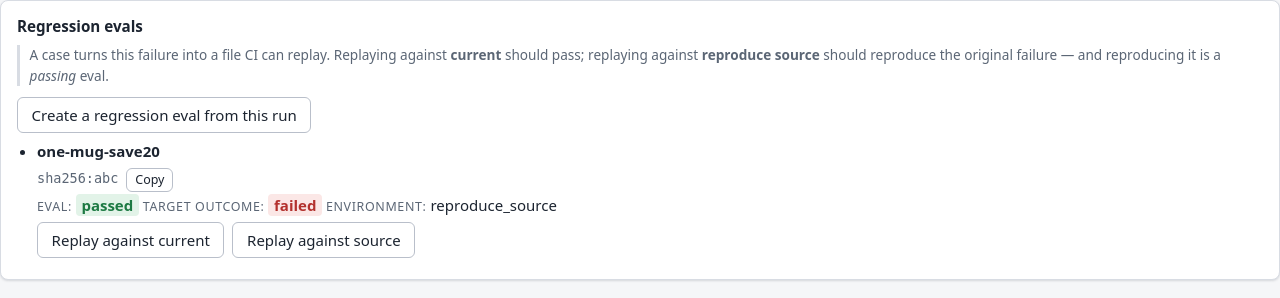
Test: EvalPanel (§24.3) › says the copy failed instead of pretending, when the browser has no clipboard
Click the button with aria-label "copy content hash" at (150, 180), box 126,168 -> 174,192
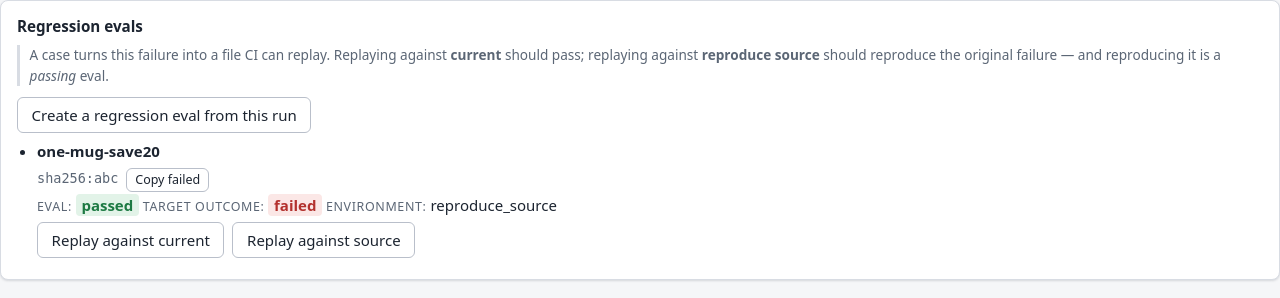
expect the button with aria-label "copy content hash" reads "Copy failed": met, box 126,168 -> 209,192
